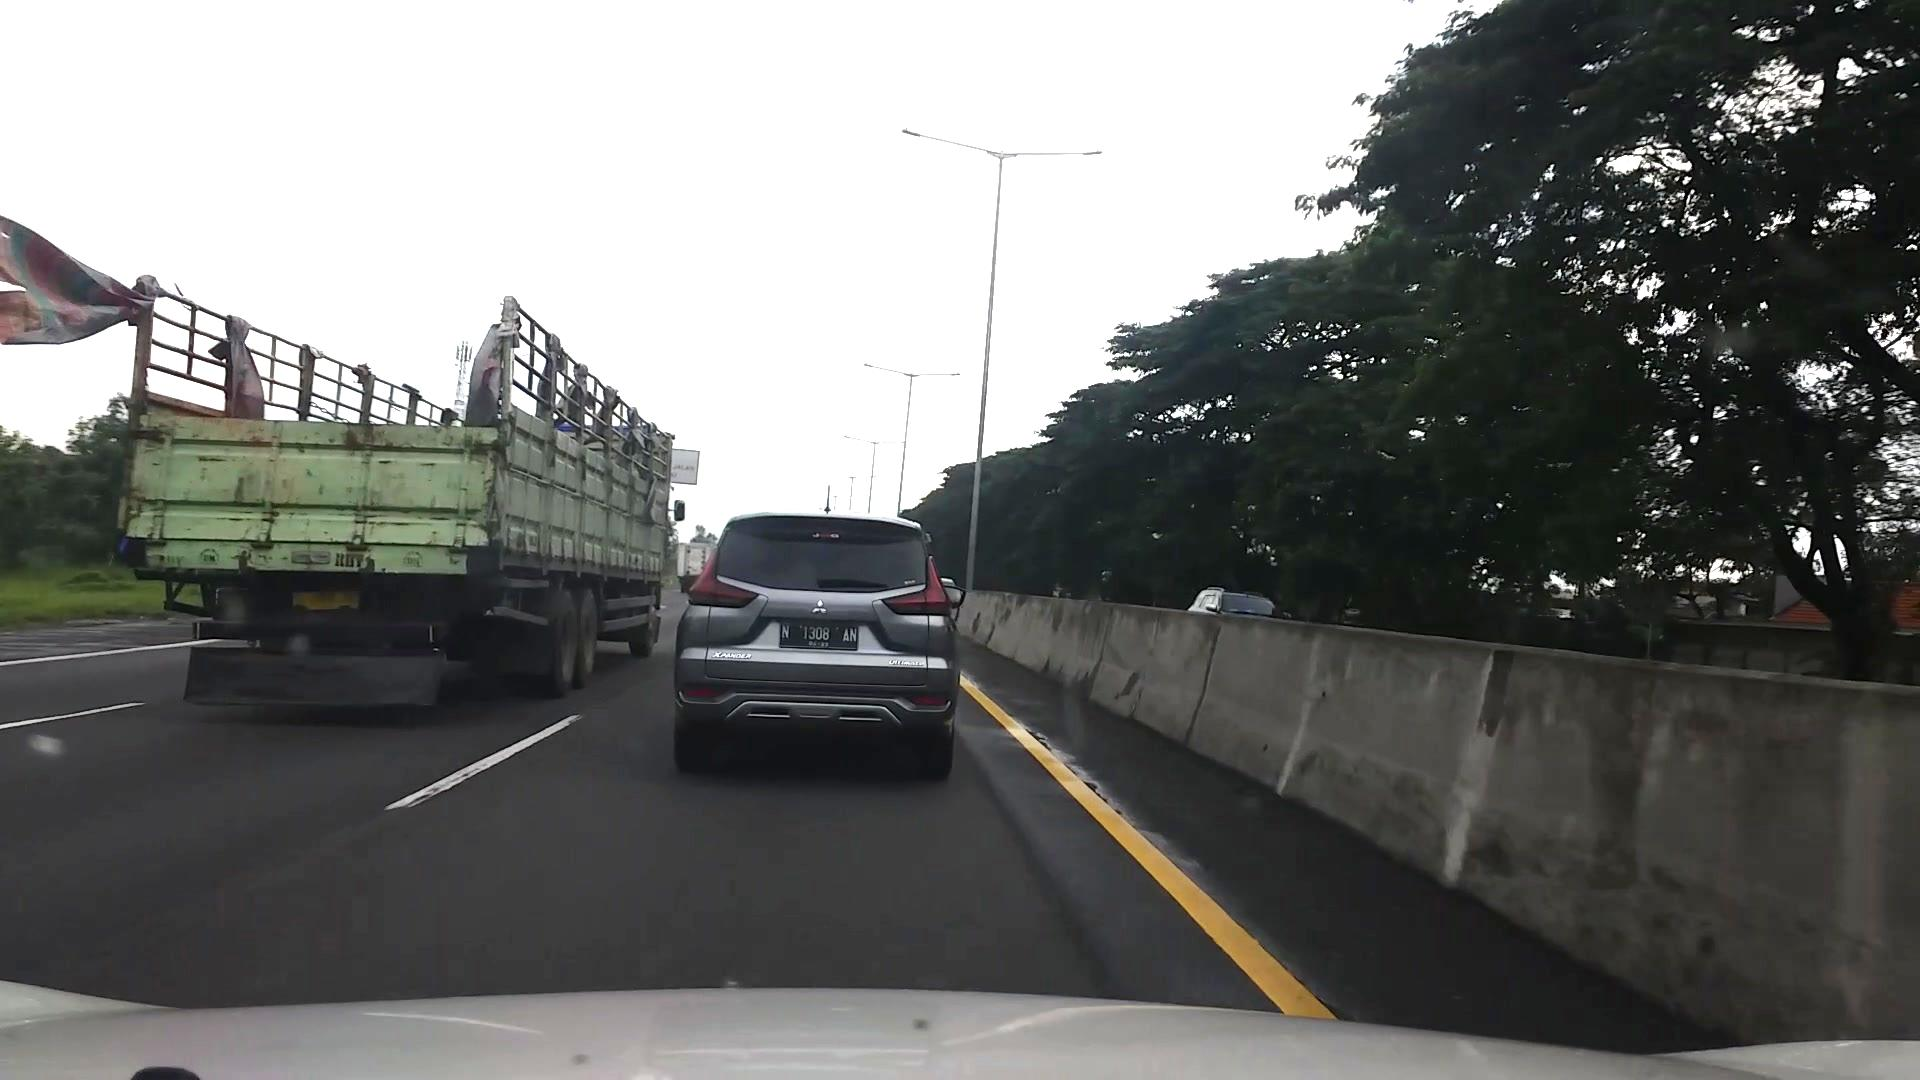plate_positive: (779, 618, 858, 651)
